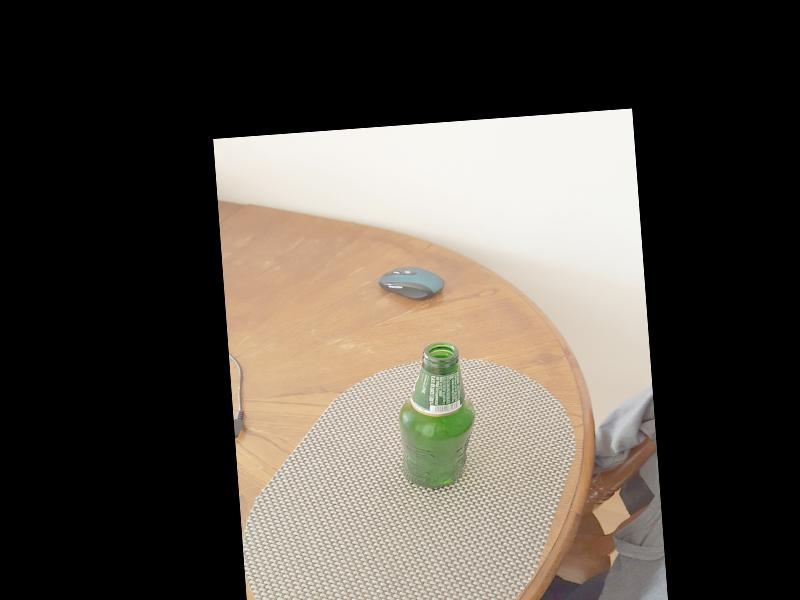Beer: (390, 339, 482, 490)
